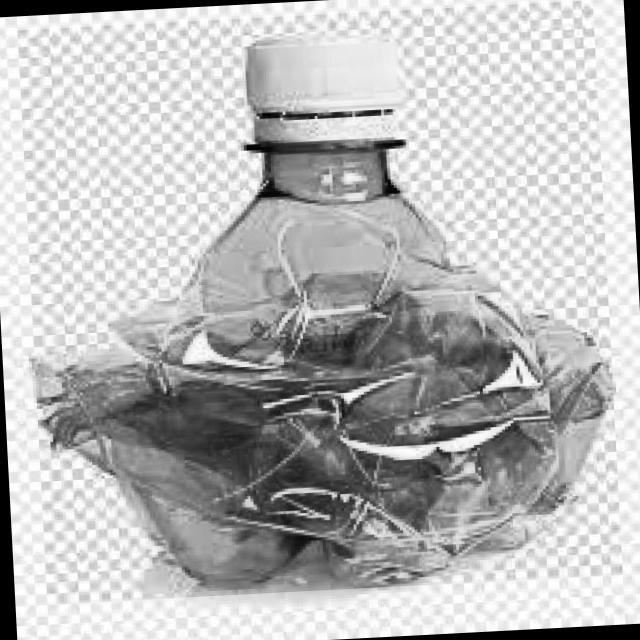defected: (16, 0, 621, 603)
